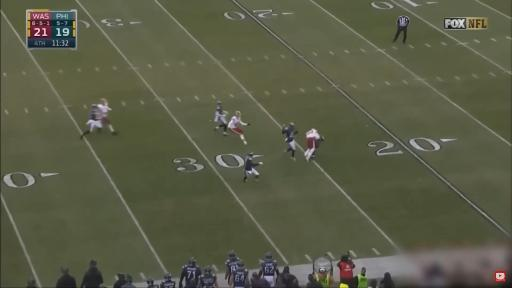Helmet: (188, 257, 196, 266), (228, 251, 235, 258), (164, 272, 171, 279), (265, 252, 272, 259), (235, 111, 241, 118), (101, 98, 107, 104), (248, 152, 253, 157), (289, 123, 294, 127)
Jersey: (261, 260, 279, 286), (181, 265, 201, 283), (232, 269, 248, 287), (261, 260, 277, 276), (282, 126, 297, 142), (200, 273, 216, 287), (228, 116, 246, 128), (215, 105, 226, 124), (226, 258, 239, 274), (245, 157, 259, 171), (89, 105, 101, 120), (98, 104, 110, 117), (307, 130, 319, 139), (215, 105, 224, 117), (160, 280, 175, 287), (148, 284, 158, 287)
Player: (81, 105, 102, 139), (228, 111, 249, 144), (98, 99, 117, 135), (259, 253, 279, 286), (179, 258, 201, 287), (282, 123, 298, 160), (229, 260, 249, 287), (244, 153, 262, 182), (305, 129, 320, 161), (199, 266, 218, 287), (215, 102, 227, 135), (225, 251, 239, 279), (311, 135, 324, 159), (160, 272, 175, 287), (147, 277, 158, 287)
